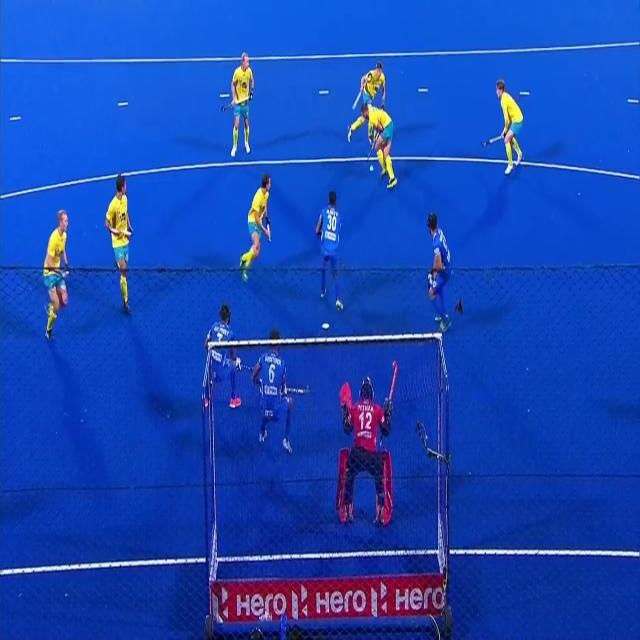ball: (367, 160, 375, 173)
